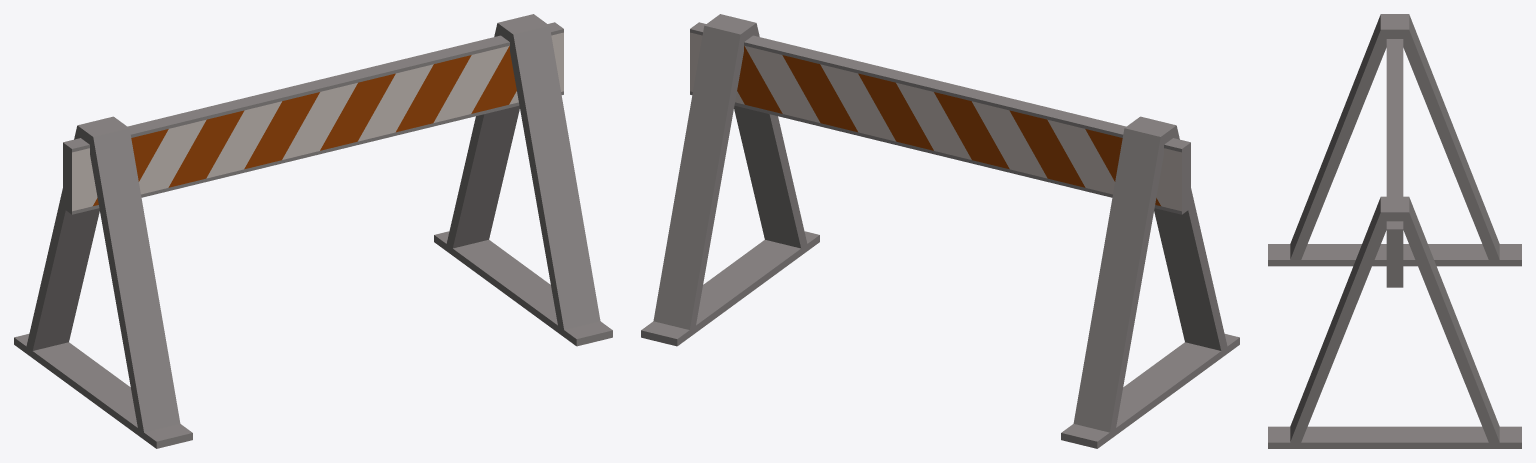
The model's file is barrier_traffic.glb.
3 renders of one model, left to right at view 1: azimuth 30°, elevation 25°; view 2: azimuth 150°, elevation 25°; view 3: azimuth 270°, elevation 25°, orthographic. The views are drawn at different scales.
Visible parts, largest first — view 1: TrafficBarrier_2; view 2: TrafficBarrier_2; view 3: TrafficBarrier_2.
Part boxes in pixels (left/top/right/bottom): TrafficBarrier_2: left=14, top=14, right=612, bottom=448; TrafficBarrier_2: left=641, top=14, right=1239, bottom=448; TrafficBarrier_2: left=1268, top=14, right=1521, bottom=448.
Size of the model in its own units: 1.56 by 0.8023 by 0.7801.
Materials: 1 (1 with a texture image).
